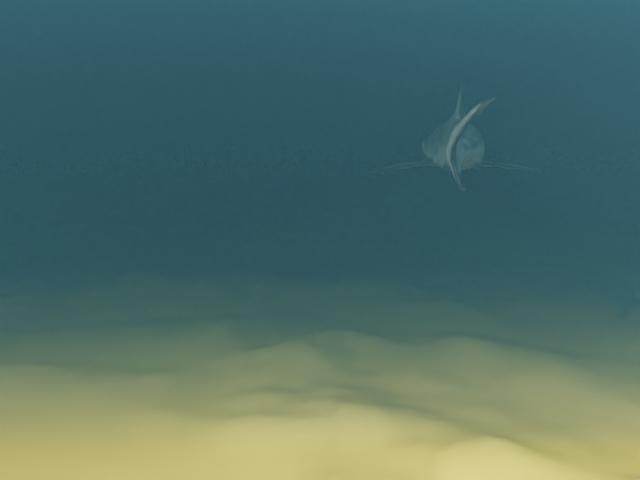Carribean Shark.001: (370, 83, 544, 191)
